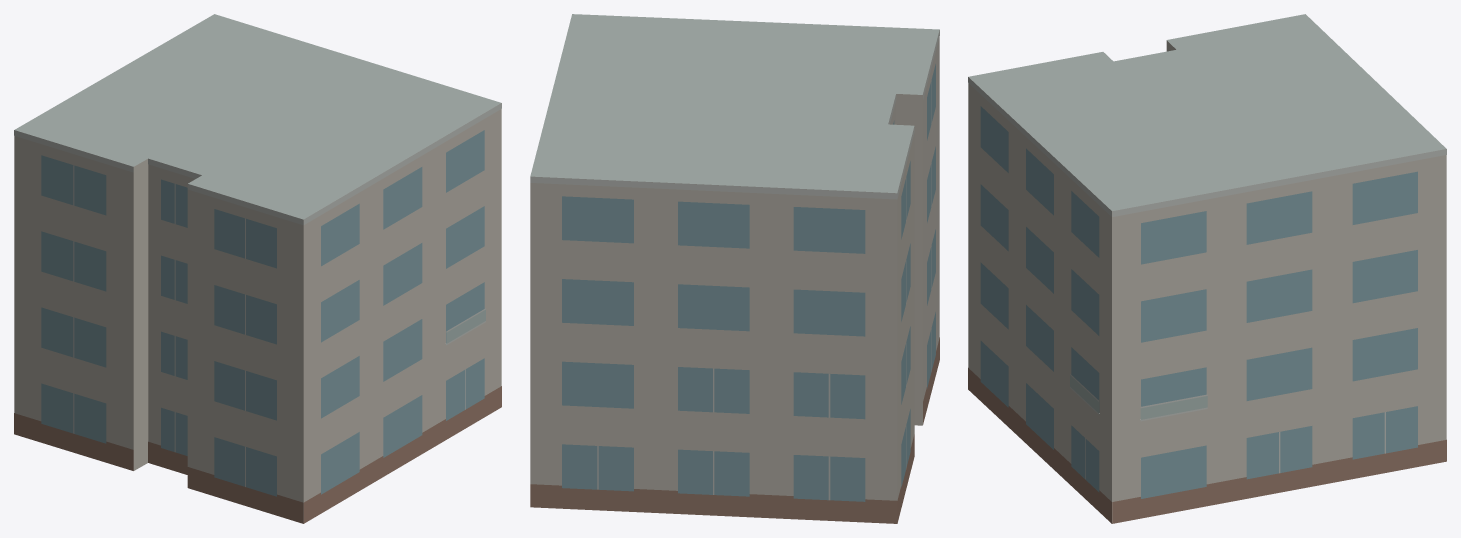
The model's file is survey-upis-32745677.glb.
3 views of the same model, side by side, from view 1: azimuth 30°, elevation 25°; view 2: azimuth 150°, elevation 25°; view 3: azimuth 270°, elevation 25° (orthographic). The views are drawn at different scales.
Parts seen in each view (by area): view 1: survey-upis-32745677.tmp; view 2: survey-upis-32745677.tmp; view 3: survey-upis-32745677.tmp.
Part boxes in pixels (bbox=[...]): survey-upis-32745677.tmp: bbox=[14, 14, 501, 523]; survey-upis-32745677.tmp: bbox=[530, 14, 939, 523]; survey-upis-32745677.tmp: bbox=[968, 14, 1446, 523].
Bounding box in the file's own units: 17.33 × 12.8 × 17.77.
